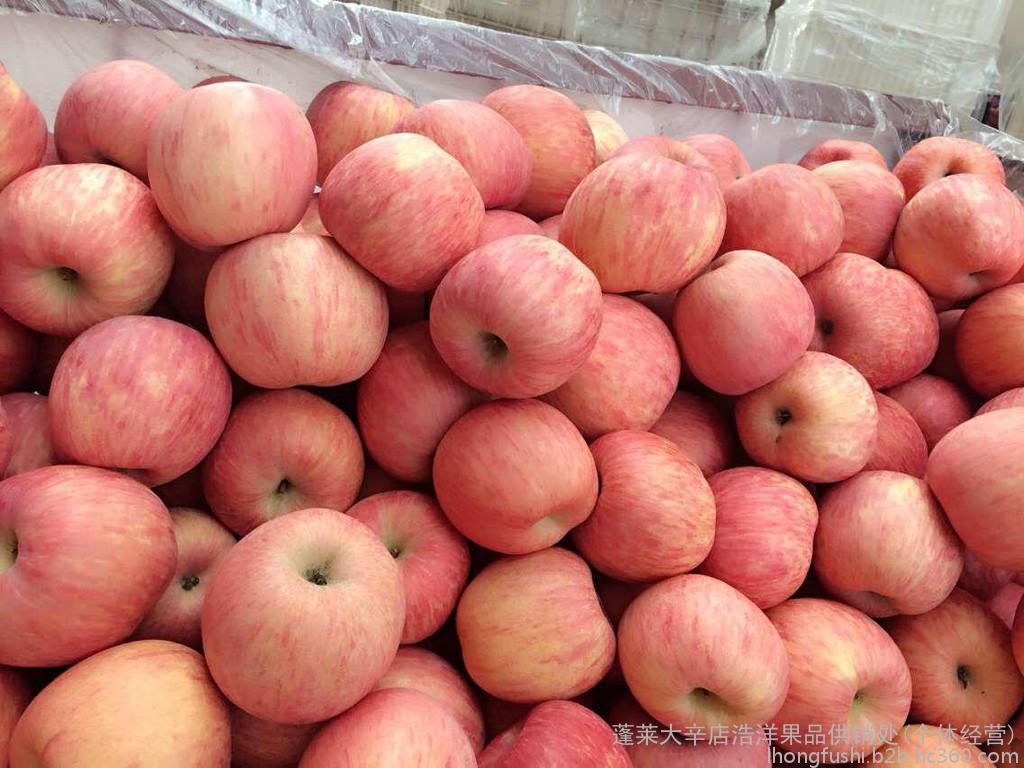apple: (197, 504, 406, 723), (1, 464, 180, 670), (49, 314, 231, 482), (205, 227, 393, 385), (10, 636, 233, 767), (432, 234, 607, 398), (1, 160, 169, 329), (151, 77, 318, 246), (315, 131, 491, 291), (619, 573, 788, 739), (431, 399, 599, 561), (756, 603, 912, 762), (559, 154, 724, 302), (457, 549, 615, 701), (672, 245, 817, 401), (207, 390, 362, 529), (881, 573, 1024, 721), (816, 468, 957, 615), (806, 249, 939, 393), (588, 430, 716, 579), (52, 56, 183, 174), (704, 465, 812, 602), (132, 508, 236, 650), (724, 164, 846, 276), (891, 135, 1003, 202)
